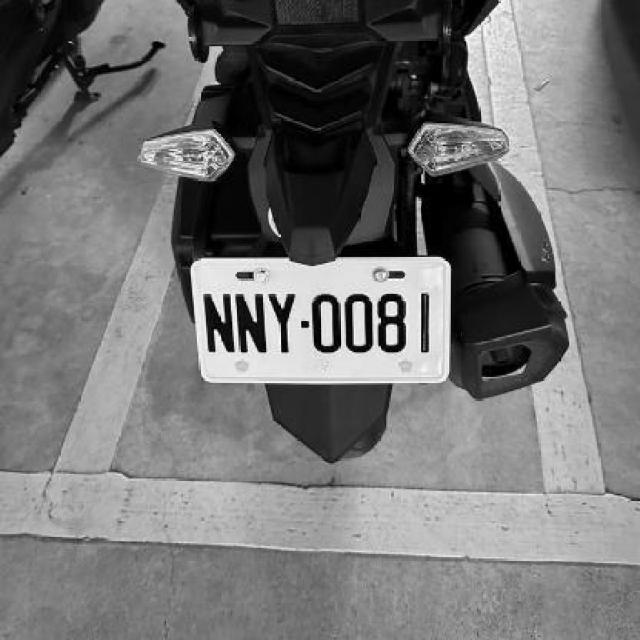-: (298, 317, 311, 331)
0: (341, 290, 374, 358), (310, 290, 342, 358)
1: (417, 291, 431, 355)
8: (374, 291, 406, 358)
N: (200, 288, 235, 355), (235, 289, 268, 357)
V: (266, 289, 299, 357)
